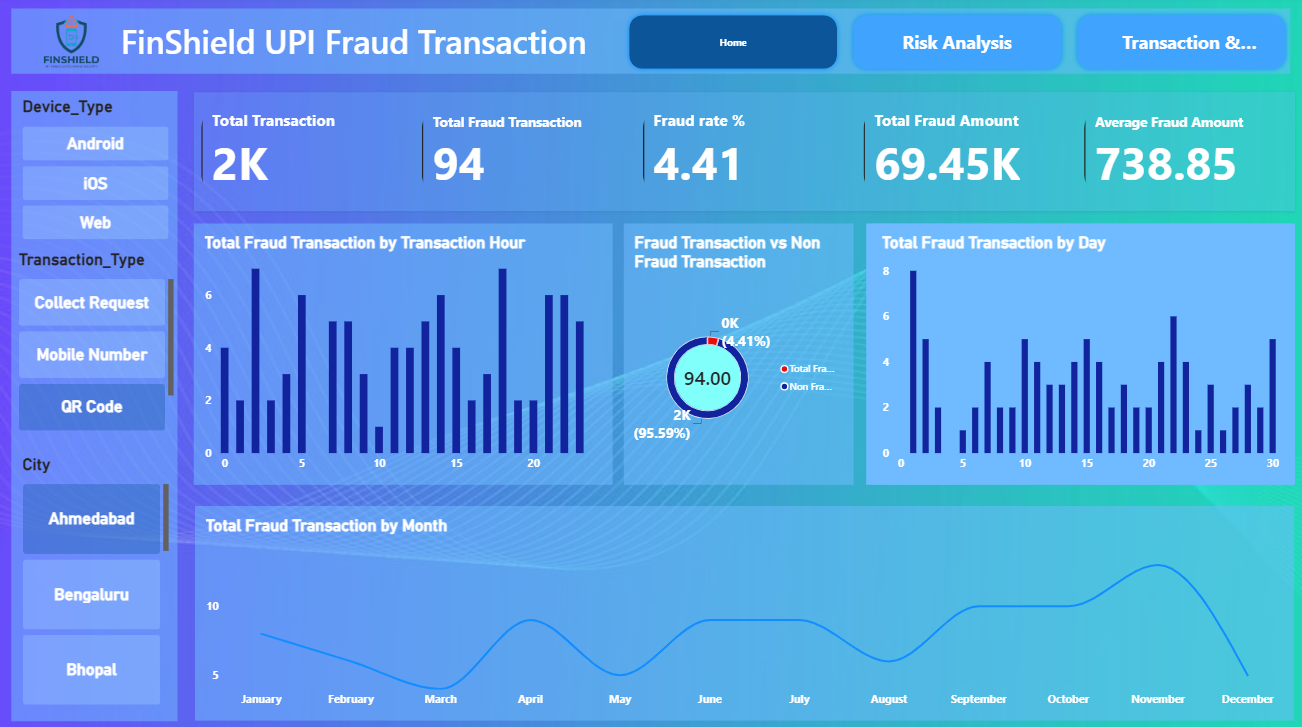

The page's visual inventory and layout, read from the dashboard file:
{"tool":"powerbi","page":{"name":"Home","canvas":[1920,1080],"ordinal":0},"visuals":[{"type":"shape","box":[16.6,139.9,244.8,927.6],"z":0},{"type":"shape","box":[1275.5,335,631.3,384.7],"z":1000},{"type":"cardVisual","fields":{"Data":["UPI_Fraud_Transaction_Cleaned.Total Transaction","UPI_Fraud_Transaction_Cleaned.Total Fraud Transaction","UPI_Fraud_Transaction_Cleaned.Fraud rate %","UPI_Fraud_Transaction_Cleaned.Total Fraud Amount","UPI_Fraud_Transaction_Cleaned.Average Fraud Amount"]},"box":[285.3,141.7,1621.5,174.8],"z":2000},{"type":"textbox","box":[16.6,18.4,1882.8,95.7],"z":3000},{"type":"donutChart","title":" Fraud Transaction vs Non Fraud Transaction","fields":{"Y":["UPI_Fraud_Transaction_Cleaned.Total Fraud Transaction","UPI_Fraud_Transaction_Cleaned.Non Fraud Transaction"]},"box":[918.4,335,338.7,384.7],"z":4000},{"type":"columnChart","fields":{"Category":["UPI_Fraud_Transaction_Cleaned.Transaction Hour"],"Y":["UPI_Fraud_Transaction_Cleaned.Total Fraud Transaction"]},"box":[285.3,335,616.6,384.7],"z":5000},{"type":"columnChart","fields":{"Y":["UPI_Fraud_Transaction_Cleaned.Total Fraud Transaction"],"Category":["UPI_Fraud_Transaction_Cleaned.Transaction_Date.Variation.Date Hierarchy.Day"]},"box":[1283.3,335.4,616.6,384.7],"z":6000},{"type":"lineChart","fields":{"Y":["UPI_Fraud_Transaction_Cleaned.Total Fraud Transaction"],"Category":["UPI_Fraud_Transaction_Cleaned.Transaction_Date.Variation.Date Hierarchy.Month"]},"box":[287.1,750.9,1618.8,316],"z":7000},{"type":"advancedSlicerVisual","fields":{"Values":["UPI_Fraud_Transaction_Cleaned.Device_Type"]},"box":[33.1,149.1,215.3,209.8],"z":8000},{"type":"advancedSlicerVisual","fields":{"Values":["UPI_Fraud_Transaction_Cleaned.Transaction_Type"]},"box":[27.6,373.6,228.2,266.9],"z":9000},{"type":"advancedSlicerVisual","fields":{"Values":["UPI_Fraud_Transaction_Cleaned.City"]},"box":[33.1,675.5,215.3,369.9],"z":10000},{"type":"image","box":[0,10.8,209.9,110.4],"z":11000},{"type":"pageNavigator","box":[917.6,19.5,982.5,95.2],"z":12000}]}

Visuals, with their boxes in screenshot pixels (x1, y1, x2, y2), scaled from the page's 1920x1080 canvas onto the 1302x727 screenshot:
shape: (left=11, top=94, right=177, bottom=719)
shape: (left=865, top=226, right=1293, bottom=484)
cardVisual - UPI_Fraud_Transaction_Cleaned.Total Transaction x UPI_Fraud_Transaction_Cleaned.Total Fraud Transaction: (left=193, top=95, right=1293, bottom=213)
textbox: (left=11, top=12, right=1288, bottom=77)
" Fraud Transaction vs Non Fraud Transaction" donutChart: (left=623, top=226, right=852, bottom=484)
columnChart - UPI_Fraud_Transaction_Cleaned.Transaction Hour x UPI_Fraud_Transaction_Cleaned.Total Fraud Transaction: (left=193, top=226, right=612, bottom=484)
columnChart - UPI_Fraud_Transaction_Cleaned.Total Fraud Transaction x UPI_Fraud_Transaction_Cleaned.Transaction_Date.Variation.Date Hierarchy.Day: (left=870, top=226, right=1288, bottom=485)
lineChart - UPI_Fraud_Transaction_Cleaned.Total Fraud Transaction x UPI_Fraud_Transaction_Cleaned.Transaction_Date.Variation.Date Hierarchy.Month: (left=195, top=505, right=1292, bottom=718)
advancedSlicerVisual - UPI_Fraud_Transaction_Cleaned.Device_Type: (left=22, top=100, right=168, bottom=242)
advancedSlicerVisual - UPI_Fraud_Transaction_Cleaned.Transaction_Type: (left=19, top=251, right=173, bottom=431)
advancedSlicerVisual - UPI_Fraud_Transaction_Cleaned.City: (left=22, top=455, right=168, bottom=704)
image: (left=0, top=7, right=142, bottom=82)
pageNavigator: (left=622, top=13, right=1289, bottom=77)
